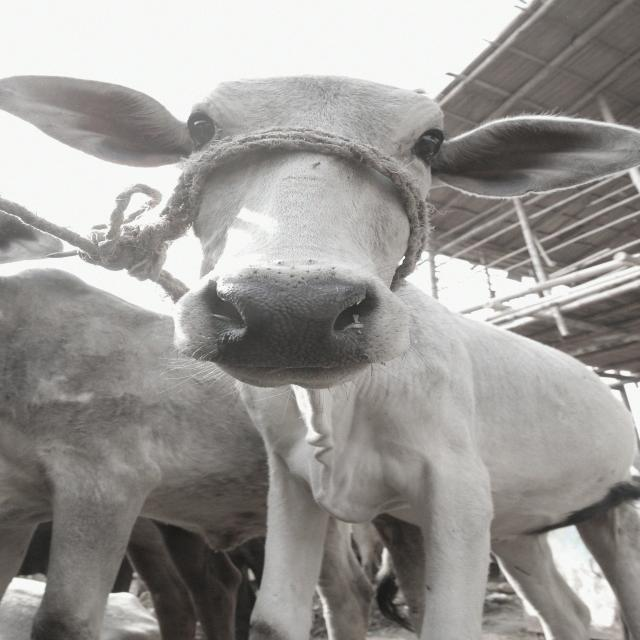muzzles: (196, 270, 403, 380)
